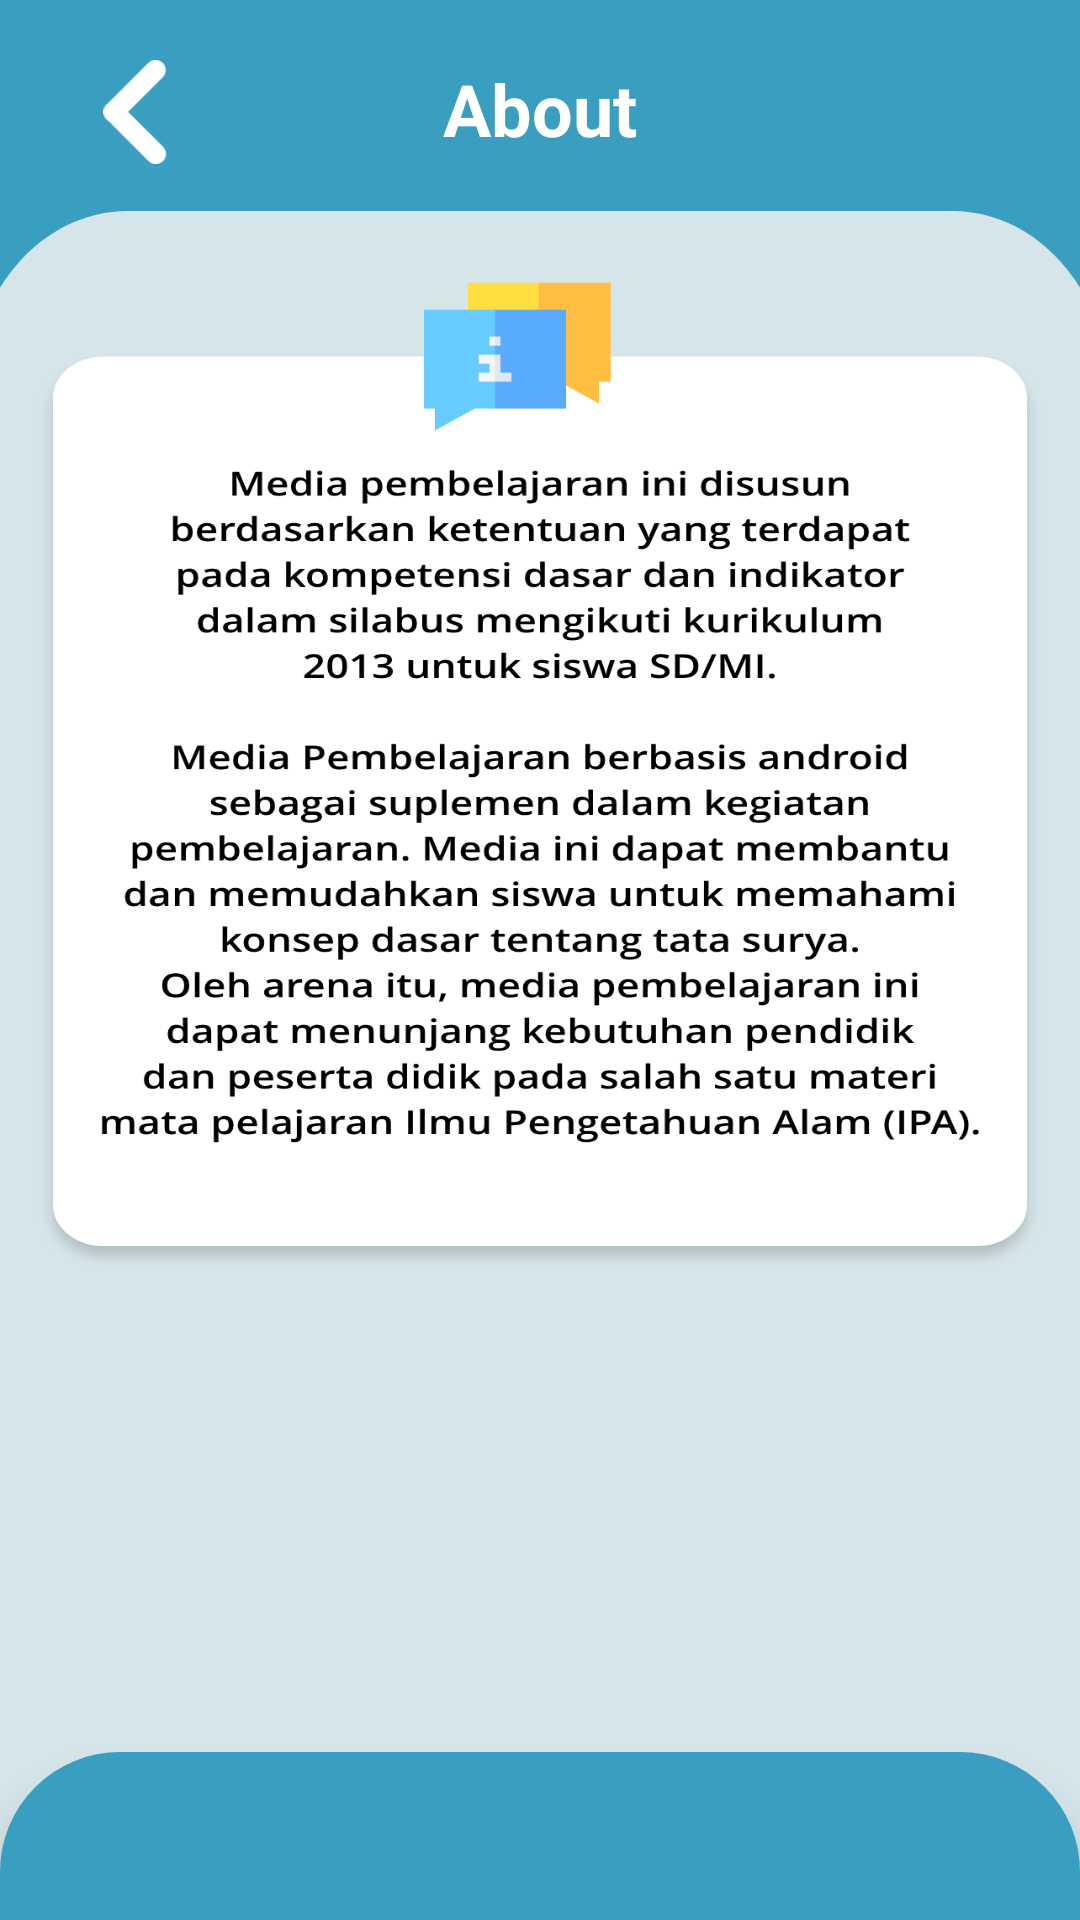

Point at icon controls on the screen. Image size 1080x1920, points as (x=x, y=y).
back: (x=135, y=112)
